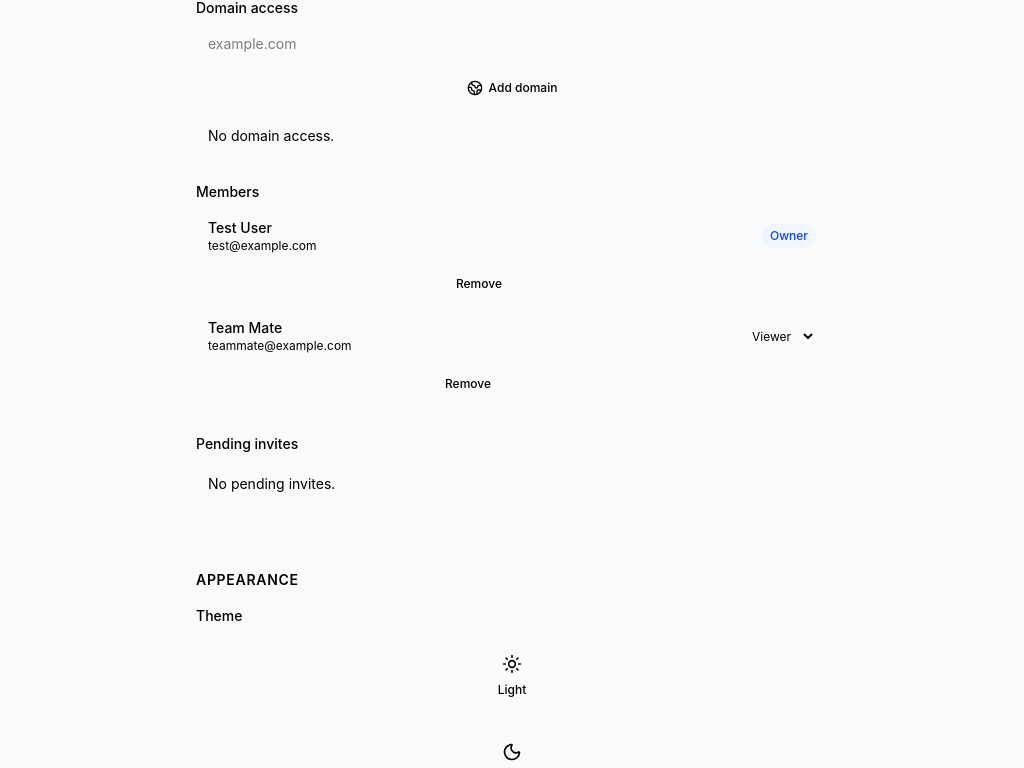
Test case: SettingsScreen › displays errors when removing a member fails
This screenshot has width=1024, height=768.
(page scrolled)
Click the button "Remove" below "teammate@example.com" at (468, 384), box [208,366,728,402]
(page scrolled)
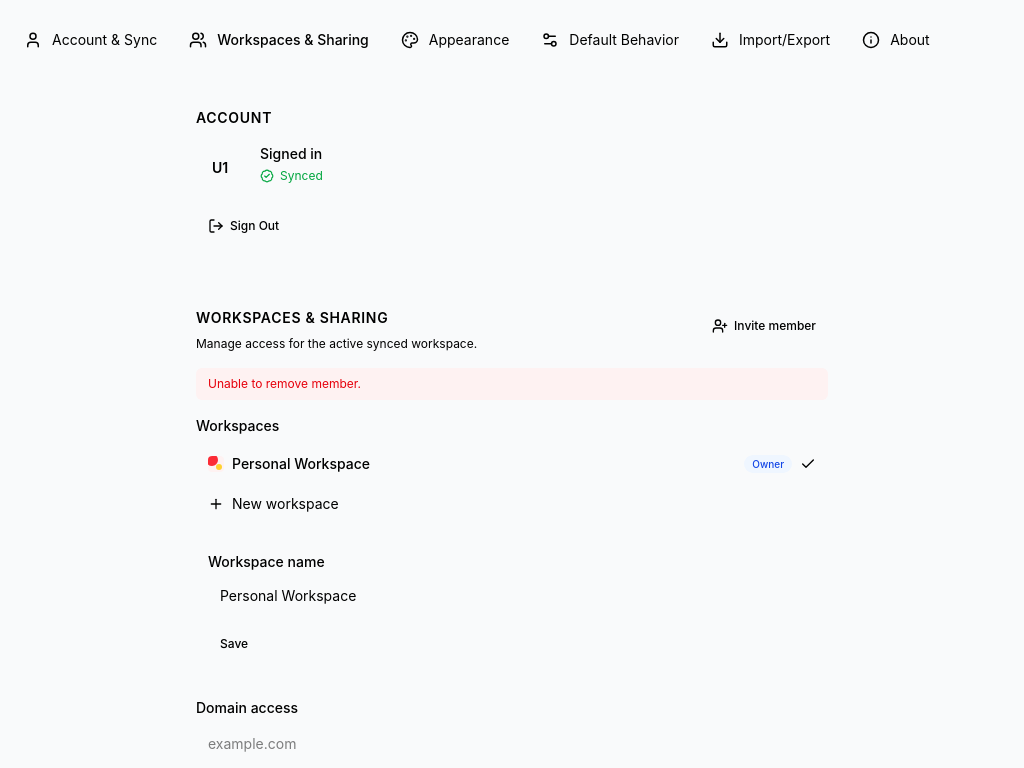
Now the message reads "Unable to remove member.", box [208,376,361,391]
